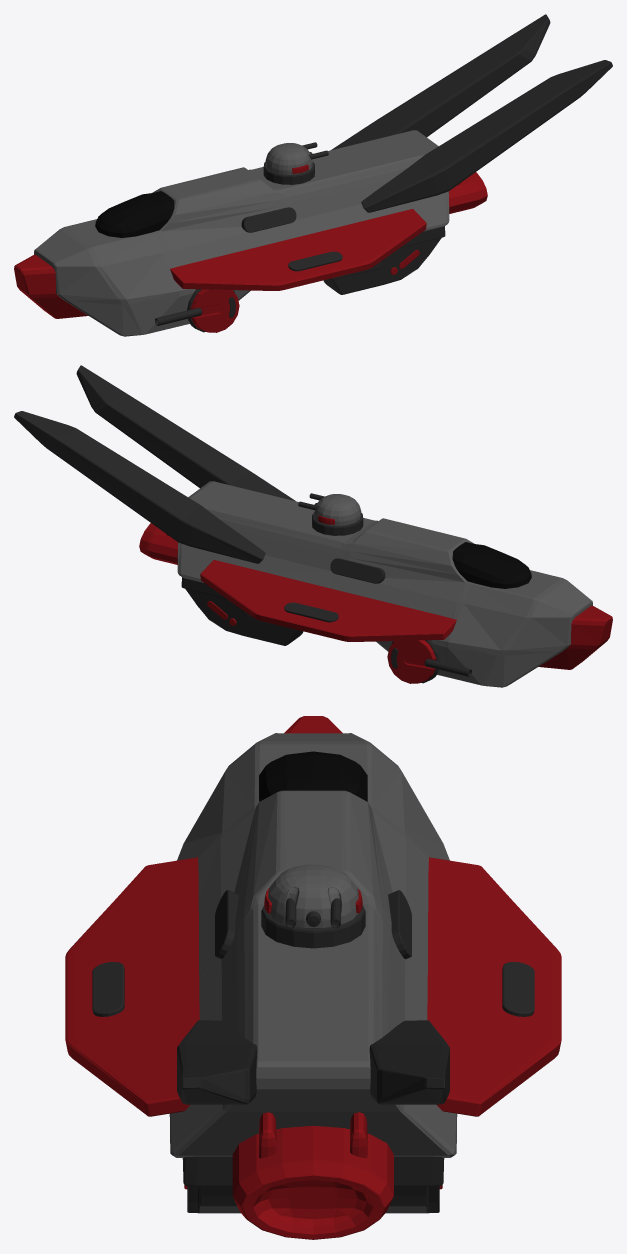
File: fga_corvette2_r.glb
3 views of the same model, one above another, from view 1: azimuth 30°, elevation 25°; view 2: azimuth 150°, elevation 25°; view 3: azimuth 270°, elevation 25° (orthographic). The views are drawn at different scales.
Visible parts, largest first — view 1: Corvette_02; view 2: Corvette_02; view 3: Corvette_02.
Part boxes in pixels (x1,y1,x2,y2): Corvette_02: (14, 14, 612, 336); Corvette_02: (14, 365, 612, 687); Corvette_02: (65, 716, 561, 1239).
Size of the model in its own units: 3389 by 973 by 1294.
1 material, 1 textured.
